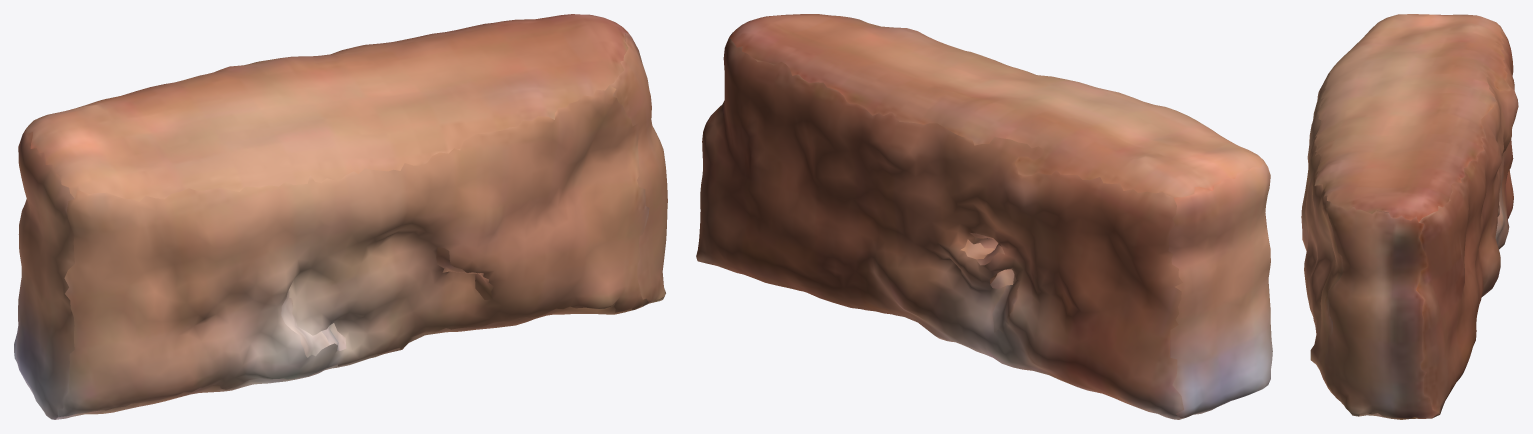
Rendered from 2_chair.glb.
3 renders of one model, left to right at view 1: azimuth 30°, elevation 25°; view 2: azimuth 150°, elevation 25°; view 3: azimuth 270°, elevation 25°, orthographic. The views are drawn at different scales.
Parts seen in each view (by area): view 1: 2_chair; view 2: 2_chair; view 3: 2_chair.
Part boxes in pixels (x1,y1,x2,y2): 2_chair: (14,14,667,419); 2_chair: (696,14,1272,419); 2_chair: (1301,14,1518,419).
Bounding box in the file's own units: 0.4442 × 0.1905 × 0.1764.
Materials: 1 (1 with a texture image).
